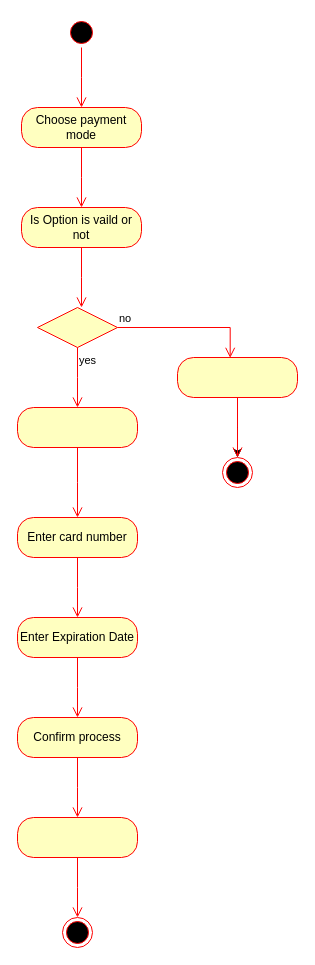
Some shapes in this 315 by 965 pixel diagram are drawn without their labels. Here are the shapes that lost their labels. From the top down, the box of each, then its label:
(176, 356, 298, 398): Choose correct option
(16, 406, 138, 448): Enter cardholder name
(16, 816, 138, 858): BookId is given
